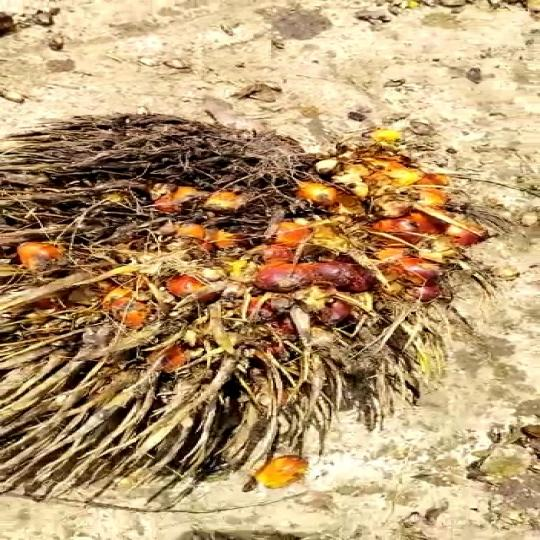terlalu masak: (0, 90, 503, 516)
